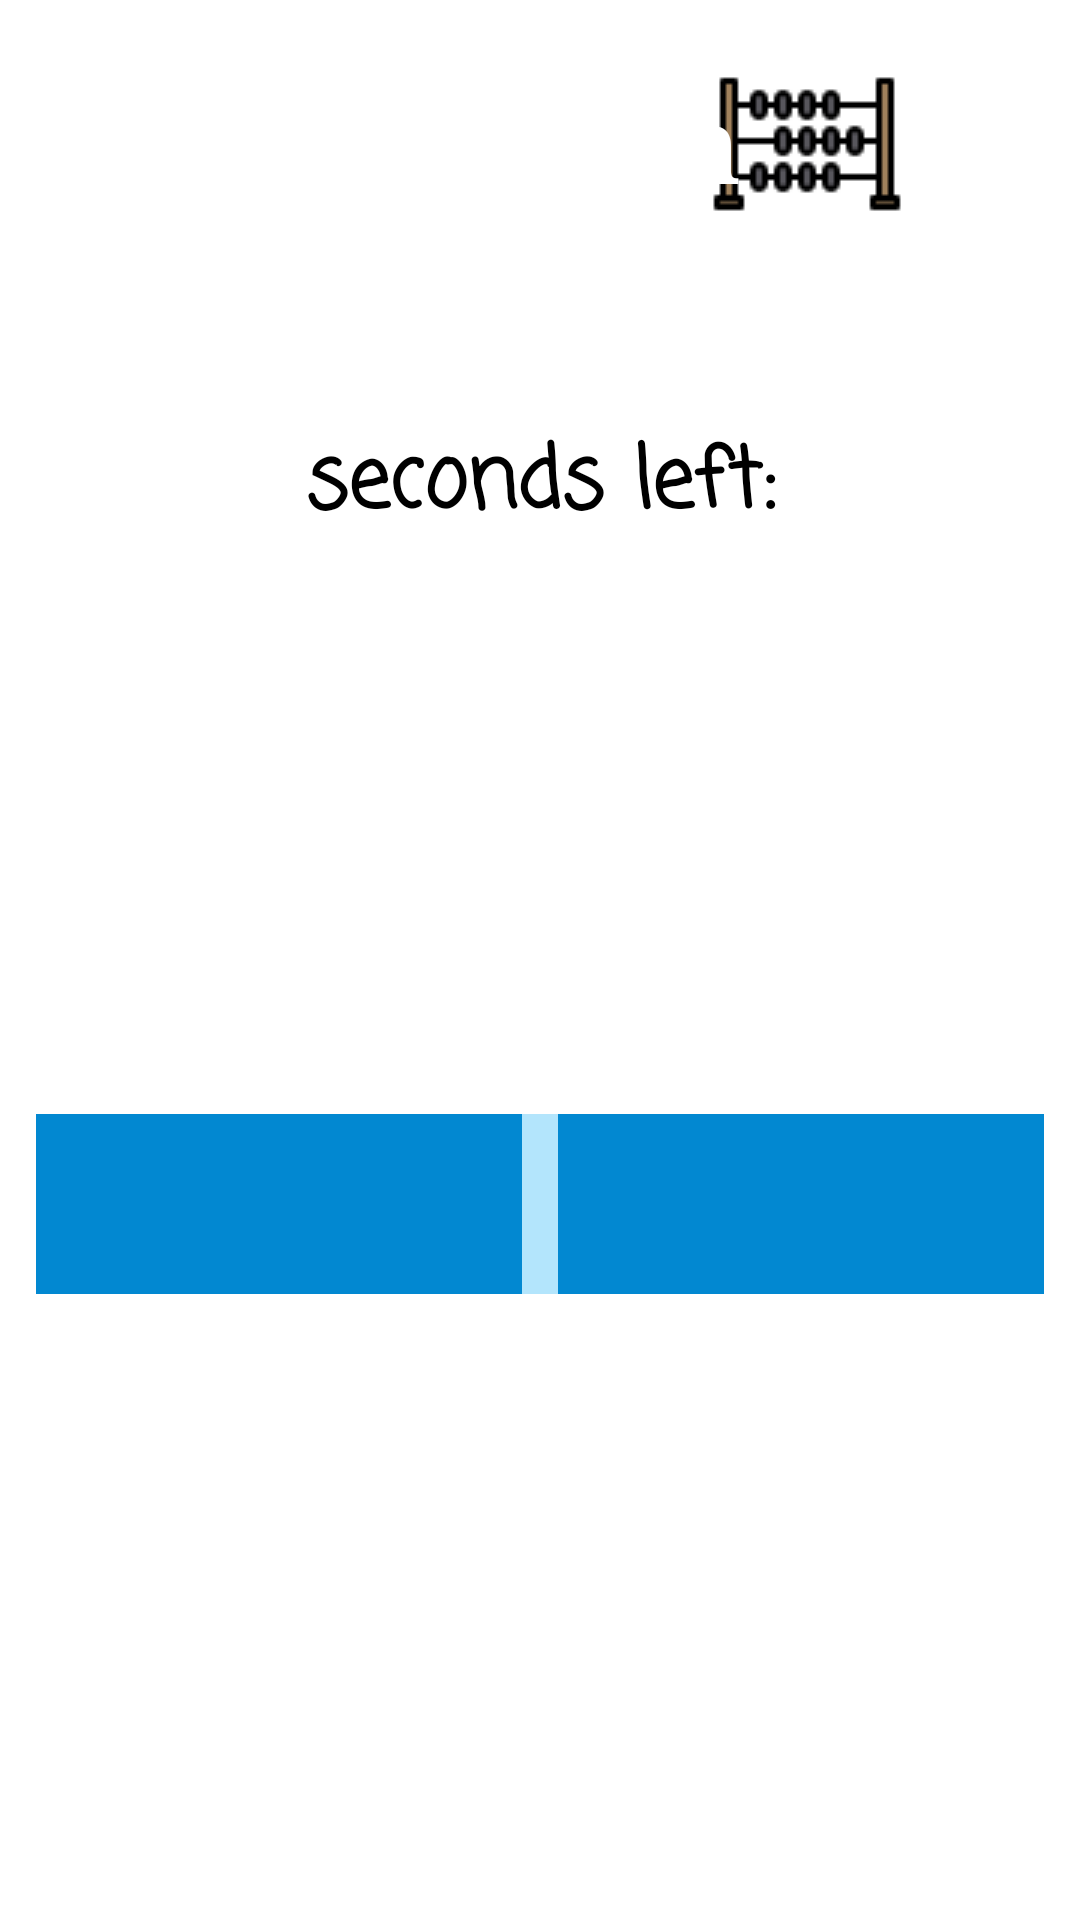

Icons on this 1080×1920 Android screen, each with its box as (x1, y1, x2, y2):
abacus: (713, 77, 901, 211)
